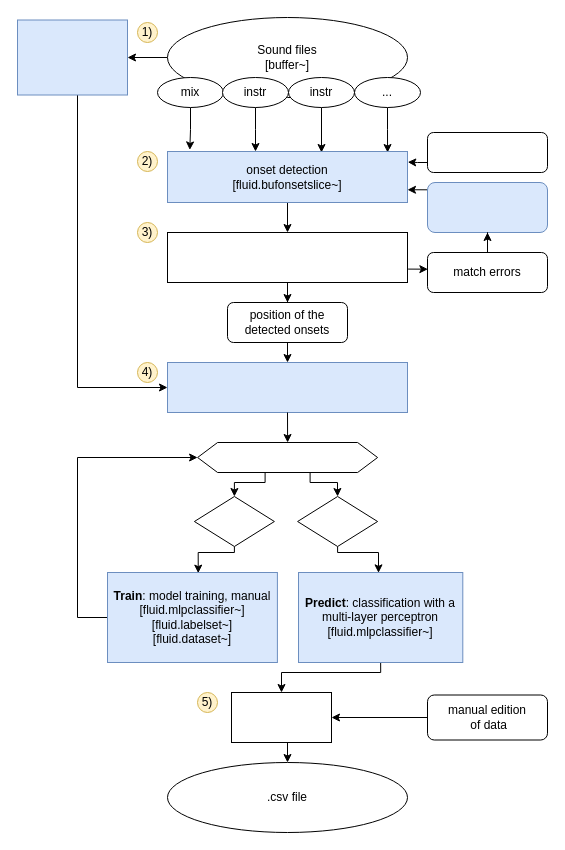
This 565x850 diagram has some shape labels left out. The centre of each missing label's shape, as x and y in pixels:
adjustment of detection parameters: point 487,152
chroma analysis [fluid.bufchroma~]: point 287,387
Extract and resynthesize harmonic content [fluid.bufsines~]: point 72,57
format data [jit.cellblock]: point 281,717
Is the model already trained?: point 287,457
manual edition of onset data [fluid.waveform~]: point 487,207
match onsets [dict]: point 287,257
No: train model: point 233,521
Yes: load model: point 337,521
